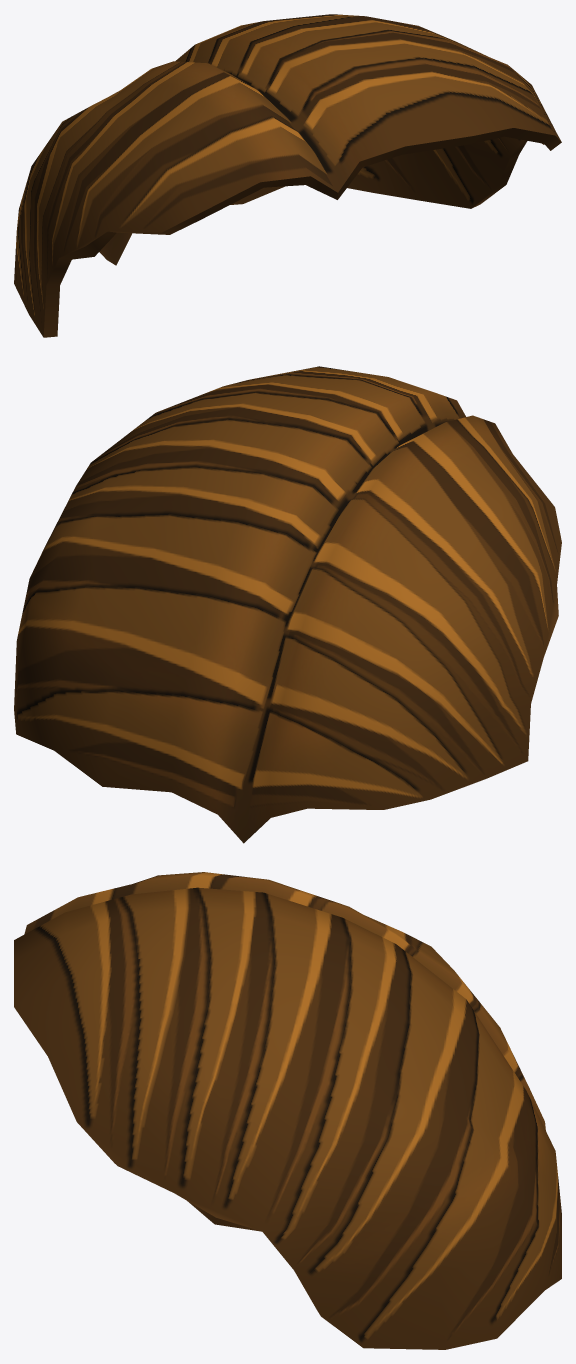
File: Hair_Combed.FBX
3 views of the same model, one above another, from view 1: azimuth 30°, elevation 25°; view 2: azimuth 150°, elevation 25°; view 3: azimuth 270°, elevation 25° (orthographic). The views are drawn at different scales.
Visible parts, largest first — view 1: Hair_Combed; view 2: Hair_Combed; view 3: Hair_Combed.
Part boxes in pixels (x1,y1,x2,y2): Hair_Combed: [14, 14, 561, 337]; Hair_Combed: [14, 366, 561, 843]; Hair_Combed: [14, 872, 561, 1349].
Size of the model in its own units: 233 by 147 by 200.
